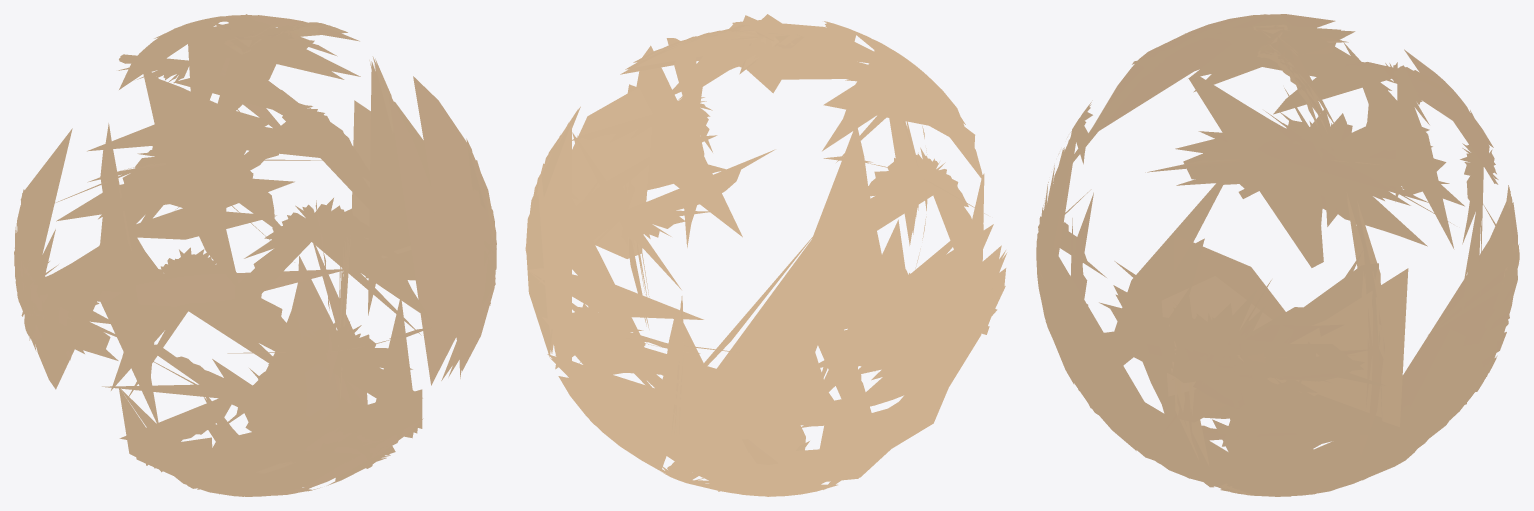
File: cradle-5.1.glb
3 renders of one model, left to right at view 1: azimuth 30°, elevation 25°; view 2: azimuth 150°, elevation 25°; view 3: azimuth 270°, elevation 25°, orthographic.
Visible parts, largest first — view 1: launch_cradle; view 2: launch_cradle; view 3: launch_cradle.
Boxes of the visible parts, x1,y1,x2,y2 form: launch_cradle: (14,14,496,496); launch_cradle: (525,14,1007,496); launch_cradle: (1036,14,1519,496).
Size of the model in its own units: 2 by 2 by 2.
